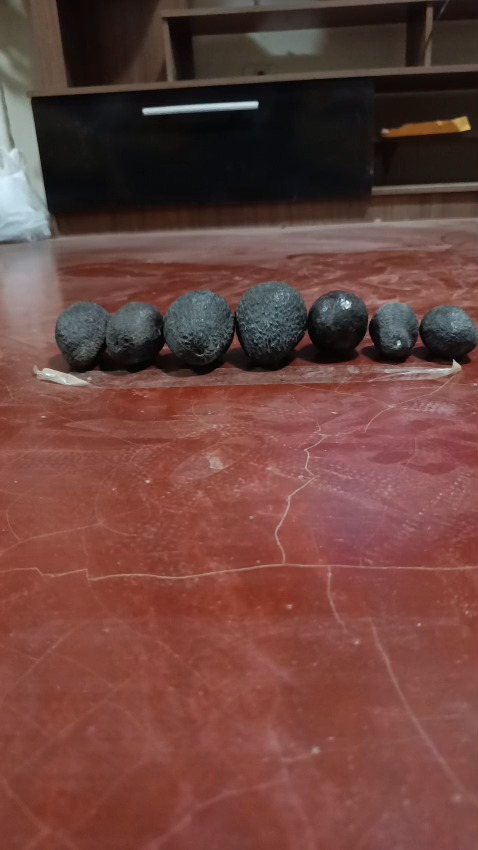Primera: (234, 281, 307, 367), (163, 289, 233, 367)
Segunda: (307, 289, 368, 358), (105, 301, 165, 369), (54, 301, 108, 372)
Tercera: (419, 304, 477, 361), (369, 302, 419, 361)
